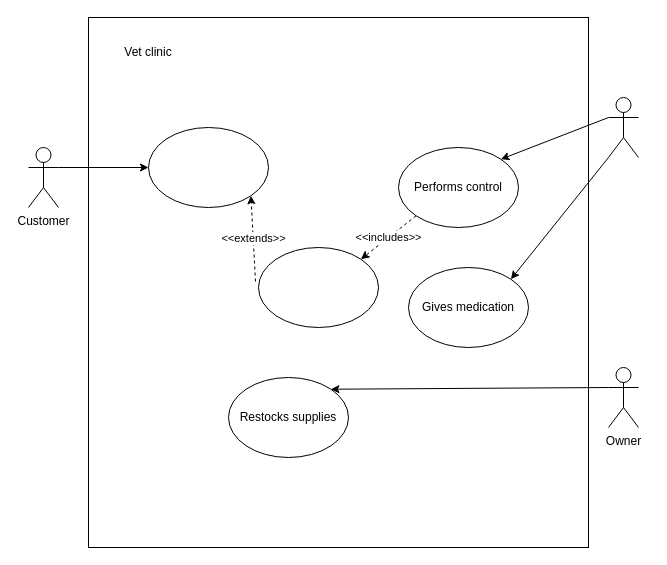
Some shapes in this 667 by 565 pixel diagram are drawn without their labels. The shapes that lost their labels are listed below. From the top down, each one's centre as x and y in pixels, then its label:
the point at 623,127: Employee
the point at 208,167: Checks in pet
the point at 318,287: Pet is sick
